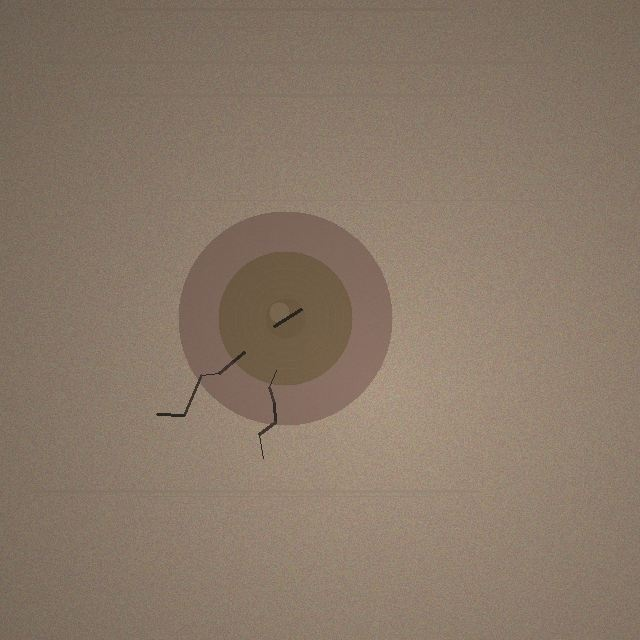crack: (178, 211, 392, 425)
